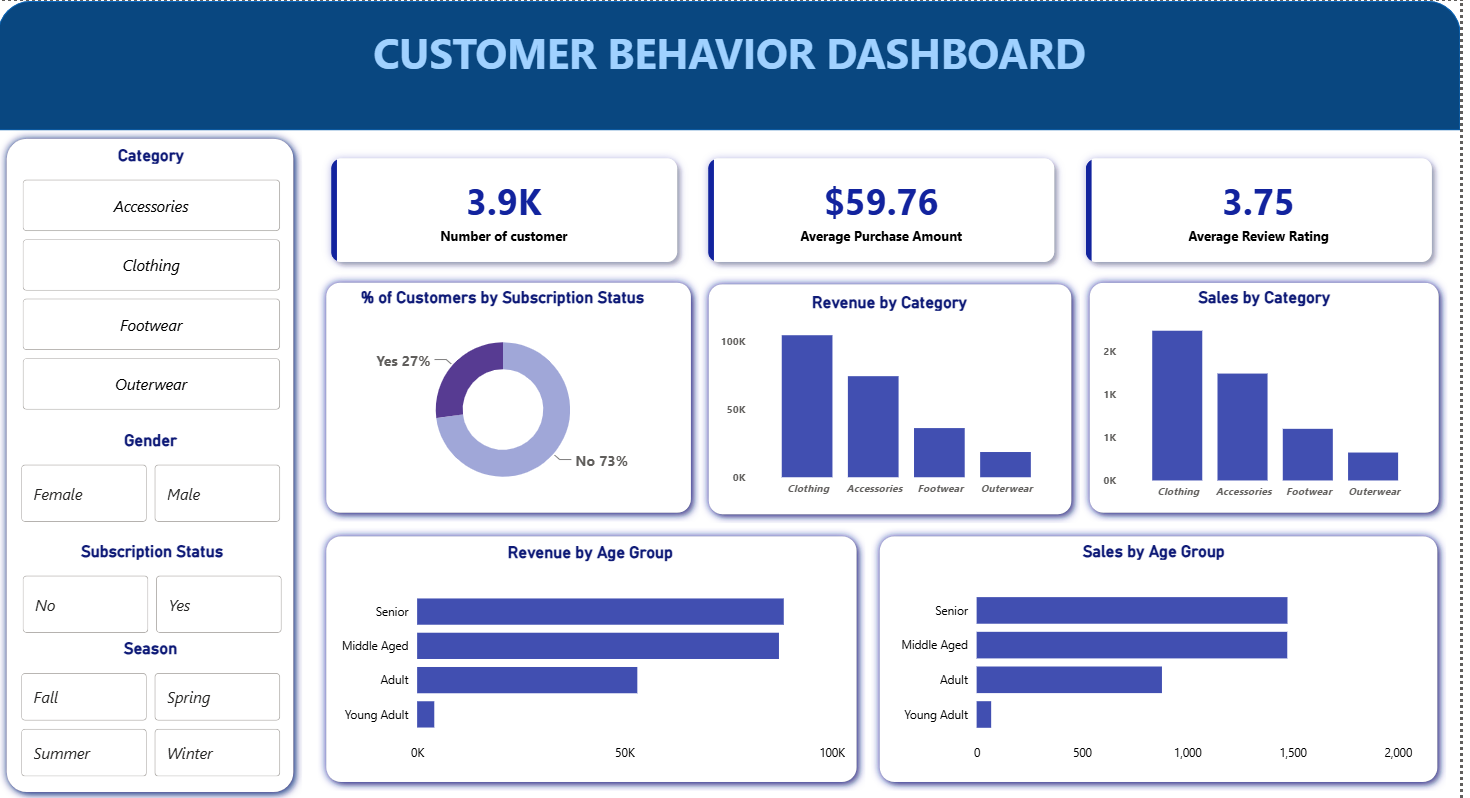

This screenshot's page, from the dashboard's own definition file:
{"tool":"powerbi","page":{"name":"Page 1","canvas":[1500,820],"ordinal":0},"visuals":[{"type":"cardVisual","fields":{"Data":["public customer.Number of customer","public customer.Average of purchase amount","public customer.Average of Review Rating"]},"box":[312,132,1188,164],"z":0},{"type":"shape","box":[0,0,1500,132.9],"z":1000},{"type":"textbox","box":[0,18,1500,114],"z":2000},{"type":"shape","box":[720,282,390,254],"z":3000},{"type":"shape","box":[1110,280,376,254],"z":4000},{"type":"shape","box":[328,280,392,254],"z":5000},{"type":"donutChart","title":"% of Customers by Subscription Status","fields":{"Category":["public customer.subscription_status"],"Y":["CountNonNull(public customer.customer_id)"]},"box":[342,294,352,220],"z":6000},{"type":"clusteredColumnChart","title":"Revenue by Category ","fields":{"Category":["public customer.category"],"Y":["Sum(public customer.purchase_amount)"]},"box":[736,298,358,218],"z":7000},{"type":"clusteredColumnChart","title":"Sales by Category ","fields":{"Category":["public customer.category"],"Y":["CountNonNull(public customer.customer_id)"]},"box":[1128,294,342,226],"z":7001},{"type":"shape","box":[0,132,312,688],"z":7002},{"type":"advancedSlicerVisual","title":"Category","fields":{"Values":["public customer.category"]},"box":[20,148,274,278],"z":7003},{"type":"advancedSlicerVisual","title":"Gender","fields":{"Values":["public customer.gender"]},"box":[18,440,276,100],"z":7004},{"type":"advancedSlicerVisual","title":"Subscription Status","fields":{"Values":["public customer.subscription_status"]},"box":[20,554,276,100],"z":7005},{"type":"advancedSlicerVisual","title":"Season","fields":{"Values":["public customer.season"]},"box":[18,654,276,148],"z":7006},{"type":"shape","box":[328,540,562,270],"z":7007},{"type":"clusteredBarChart","title":"Revenue by Age Group","fields":{"Y":["Sum(public customer.purchase_amount)"],"Category":["public customer.age_group"]},"box":[342,556,532,234],"z":7008},{"type":"shape","box":[896,540,590,270],"z":7009},{"type":"clusteredBarChart","title":"Sales by Age Group","fields":{"Category":["public customer.age_group"],"Y":["CountNonNull(public customer.customer_id)"]},"box":[916,554,540,236],"z":7010}]}

Visuals, with their boxes in screenshot pixels (x1, y1, x2, y2), scaled from the page's 1500x820 canvas onto the 1470x798 screenshot:
cardVisual - public customer.Number of customer x public customer.Average of purchase amount: detection(306, 128, 1469, 288)
shape: detection(0, 0, 1469, 129)
textbox: detection(0, 18, 1469, 128)
shape: detection(706, 274, 1088, 522)
shape: detection(1088, 272, 1456, 520)
shape: detection(321, 272, 706, 520)
"% of Customers by Subscription Status" donutChart: detection(335, 286, 680, 500)
"Revenue by Category " clusteredColumnChart: detection(721, 290, 1072, 502)
"Sales by Category " clusteredColumnChart: detection(1105, 286, 1441, 506)
shape: detection(0, 128, 306, 797)
"Category" advancedSlicerVisual: detection(20, 144, 288, 415)
"Gender" advancedSlicerVisual: detection(18, 428, 288, 526)
"Subscription Status" advancedSlicerVisual: detection(20, 539, 290, 636)
"Season" advancedSlicerVisual: detection(18, 636, 288, 780)
shape: detection(321, 526, 872, 788)
"Revenue by Age Group" clusteredBarChart: detection(335, 541, 857, 769)
shape: detection(878, 526, 1456, 788)
"Sales by Age Group" clusteredBarChart: detection(898, 539, 1427, 769)
